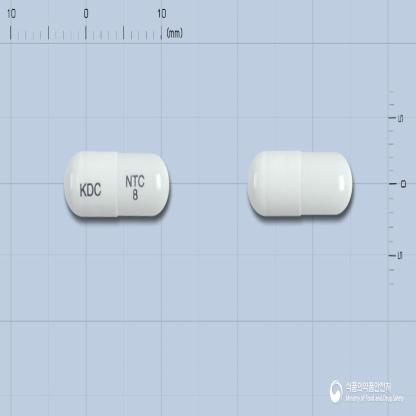pill: (246, 148, 354, 218), (64, 149, 170, 218)
